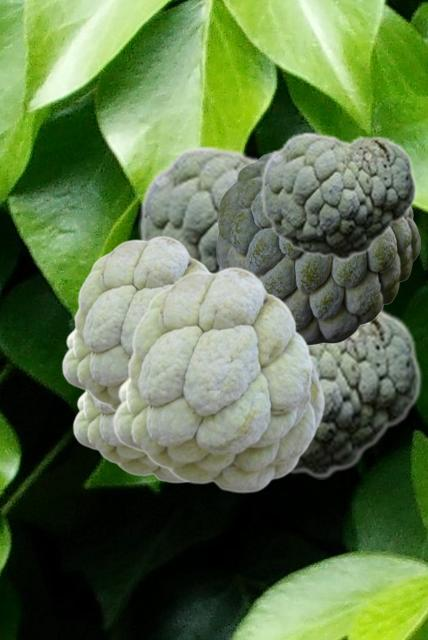atis: (112, 266, 324, 492), (216, 152, 419, 344), (61, 235, 209, 411), (288, 306, 421, 478), (260, 131, 416, 260), (138, 144, 280, 271), (72, 391, 183, 482)
